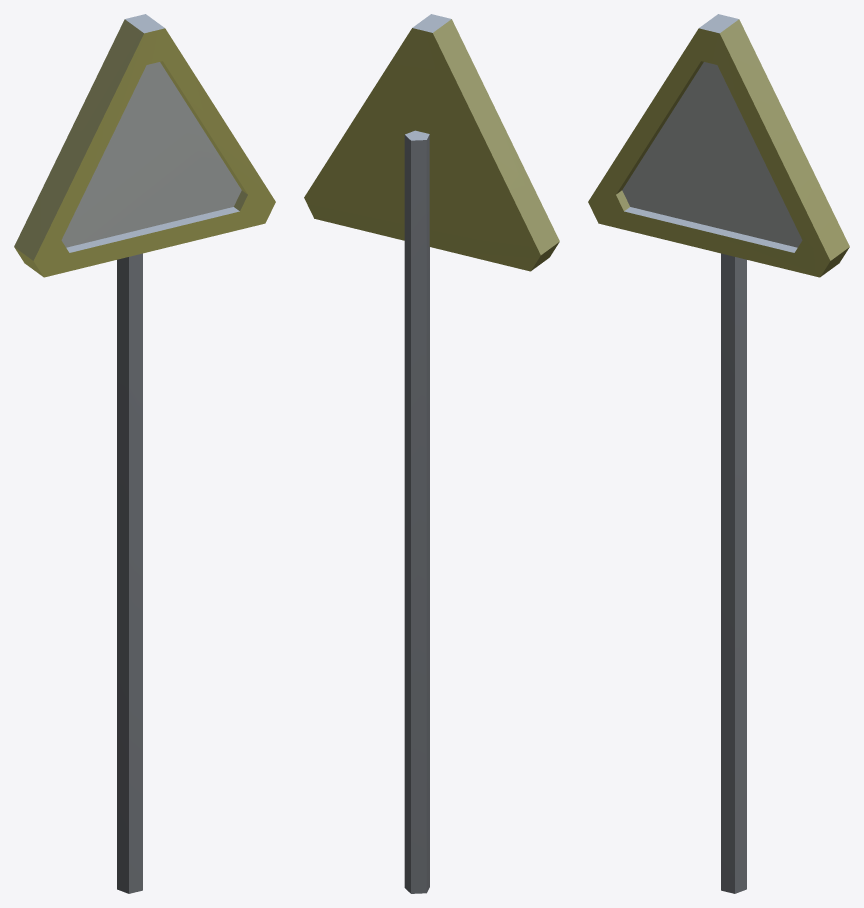
The model's file is sign_yield.glb.
3 renders of one model, left to right at view 1: azimuth 30°, elevation 25°; view 2: azimuth 150°, elevation 25°; view 3: azimuth 330°, elevation 25°, orthographic. The views are drawn at different scales.
Visible parts, largest first — view 1: Prop; view 2: Prop; view 3: Prop.
Part boxes in pixels (box(x1,y1,x2,y2)): Prop: box(14, 14, 275, 893); Prop: box(304, 14, 559, 893); Prop: box(588, 14, 849, 893).
Bounding box in the file's own units: 0.7538 × 2.6 × 0.168.
